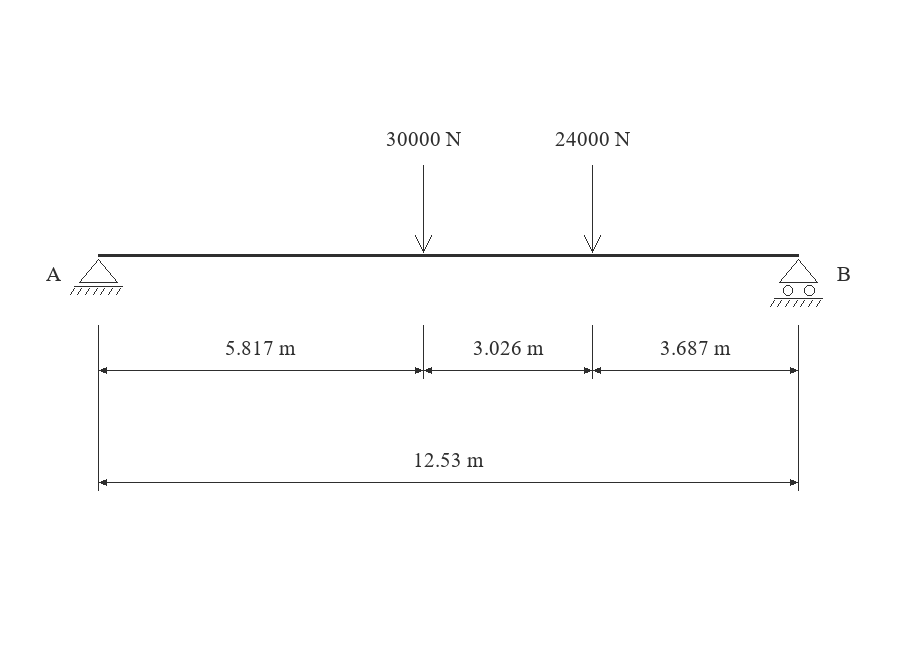pin_support: (70, 259, 123, 295)
point_load: (415, 165, 432, 253), (584, 165, 601, 253)
roller_support: (770, 259, 823, 307)
